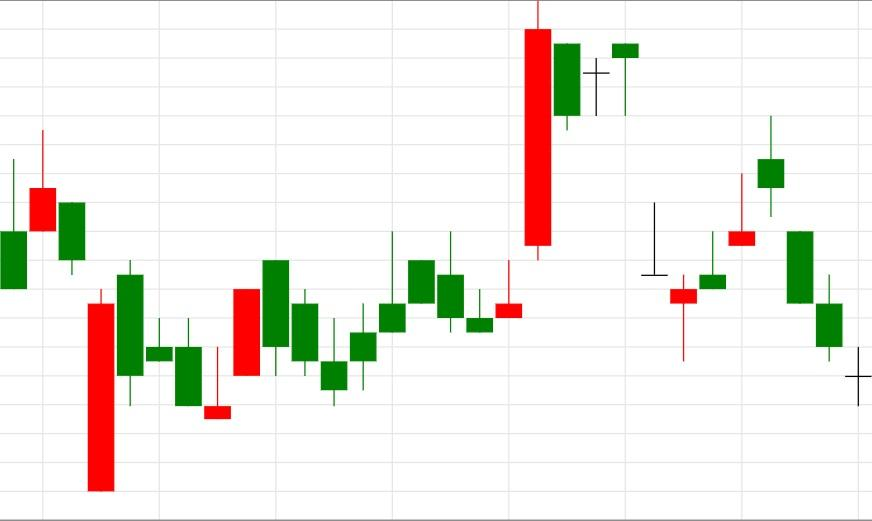three_white_soldiers_rise: (262, 230, 406, 405)
